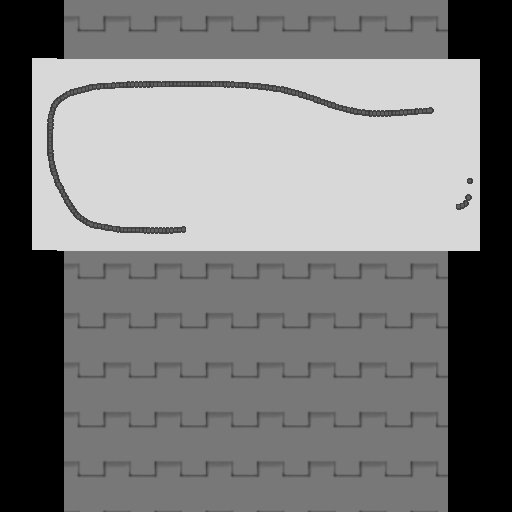Defect: (183, 202, 457, 236)
